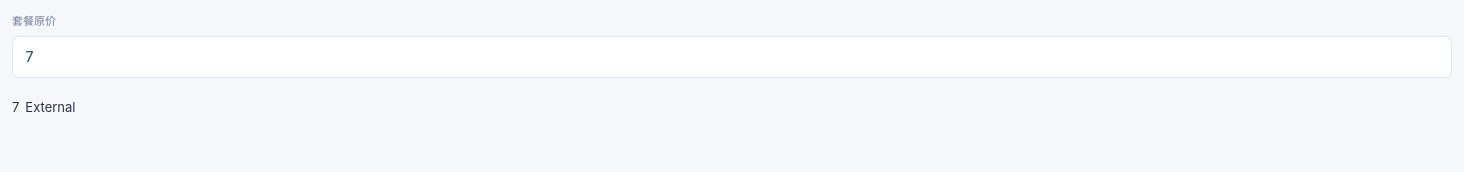
Test case: numeric input drafts › keeps invalid text after blur and the last good value
Replace the text in the field labelled "套餐原价" with "-4" at (732, 57), box [13, 37, 1451, 77]
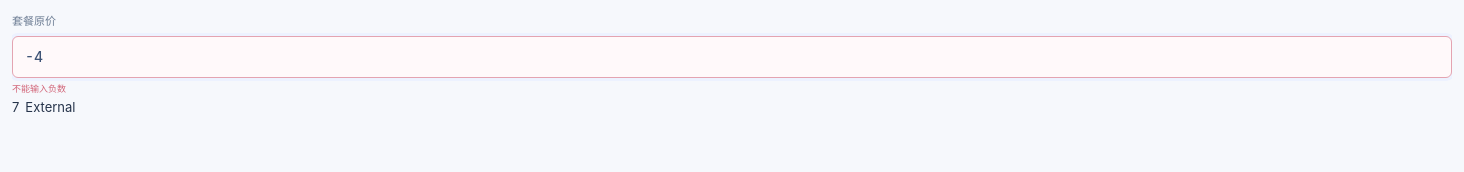
Press Tab
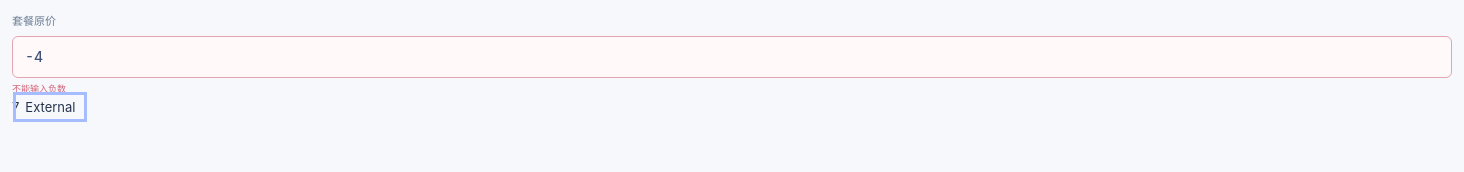
Expected: the text with test id "value" reads "7", [12, 99, 19, 115]
Expected: the field labelled "套餐原价" is marked as invalid, [13, 37, 1451, 77]
